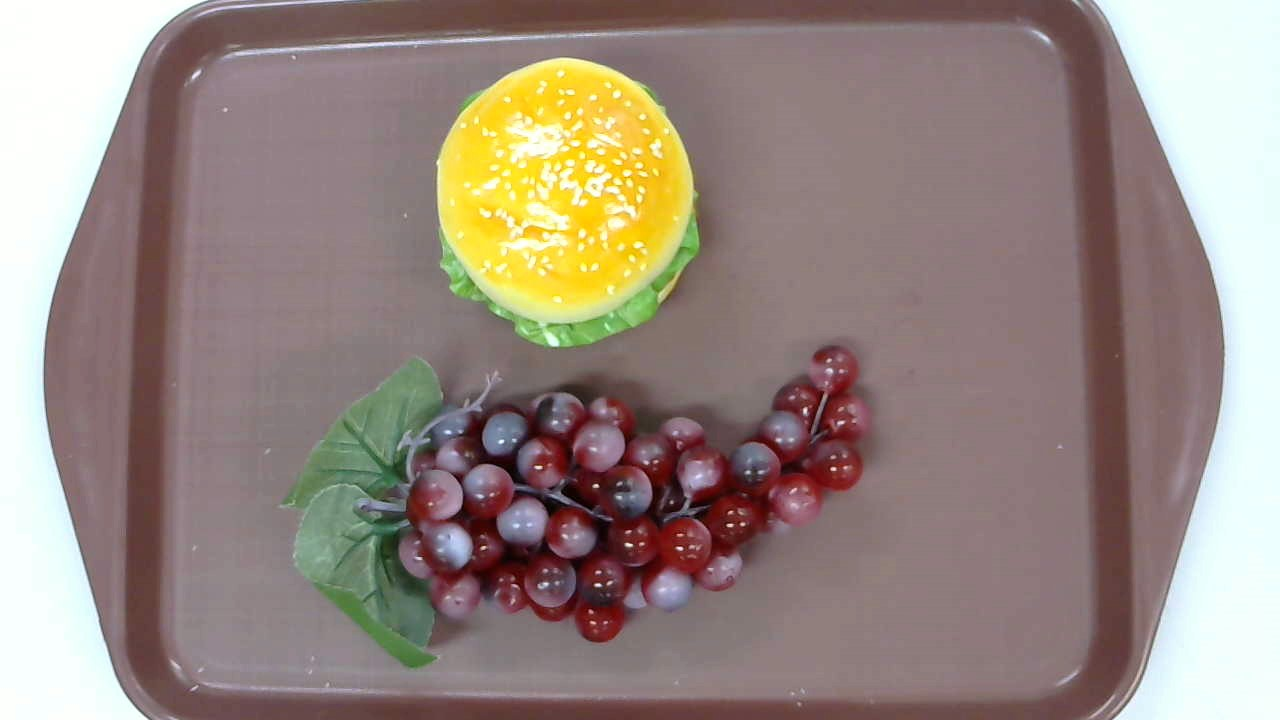grape: (280, 347, 877, 667)
hamburger: (432, 58, 699, 347)
